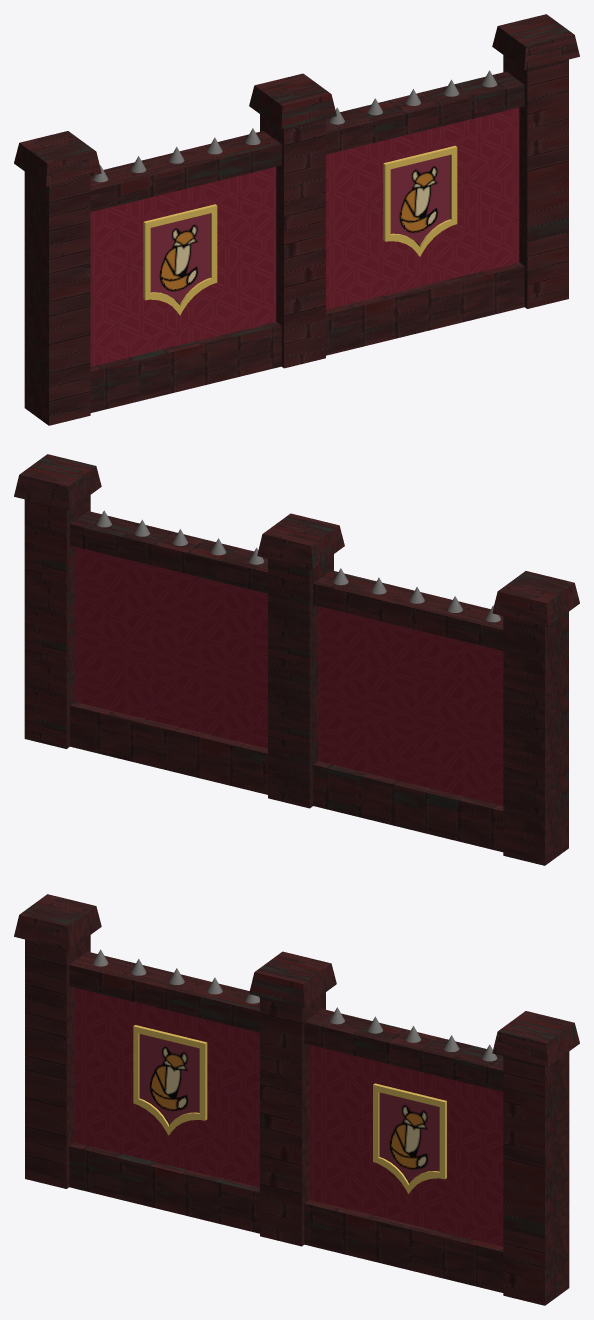
Rendered from Barricade_Lv3.fbx.
3 views of the same model, one above another, from view 1: azimuth 30°, elevation 25°; view 2: azimuth 150°, elevation 25°; view 3: azimuth 330°, elevation 25° (orthographic).
Visible parts, largest first — view 1: Cône.013; view 2: Cône.013; view 3: Cône.013.
Boxes of the visible parts, x1=… form: Cône.013: x1=14, y1=14, x2=579, y2=425; Cône.013: x1=14, y1=454, x2=579, y2=865; Cône.013: x1=14, y1=894, x2=579, y2=1305.
Size of the model in its own units: 320 by 152 by 33.26.
